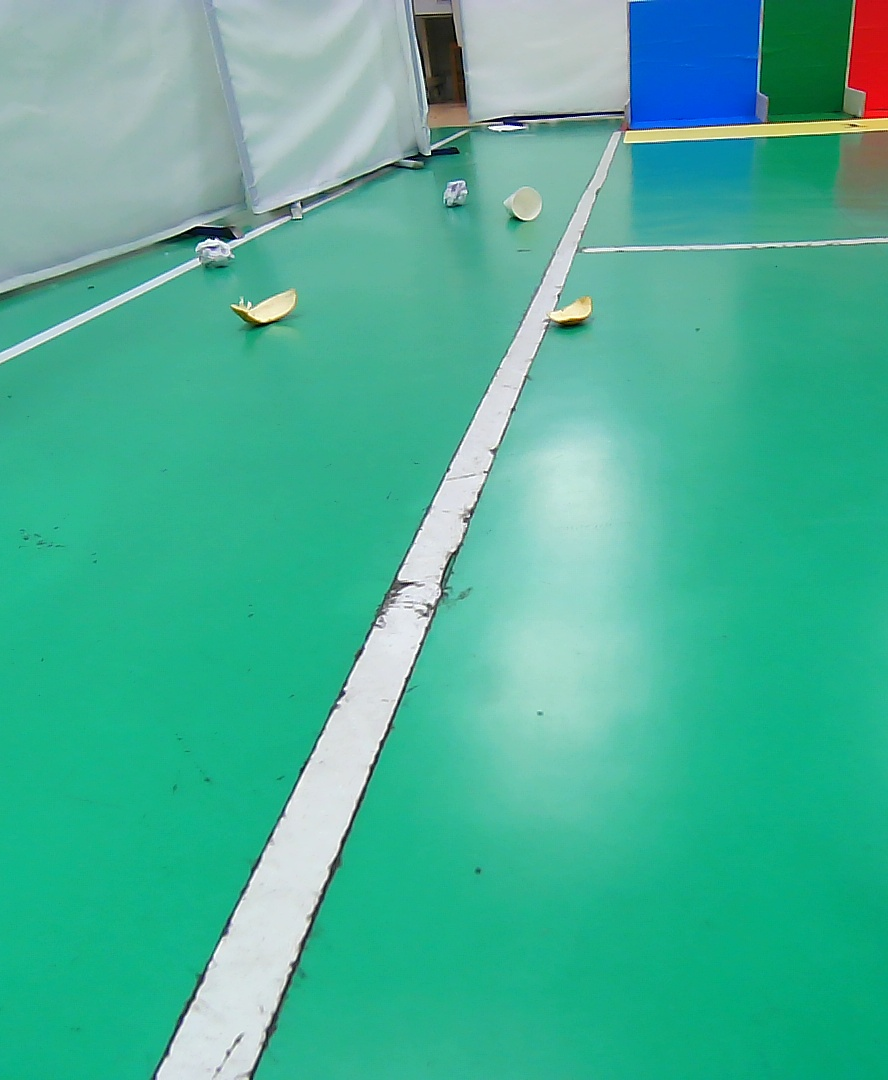orangepeel: (221, 282, 307, 335), (537, 290, 599, 336)
papercup: (498, 183, 545, 223)
spitball: (193, 235, 235, 272), (439, 177, 471, 208)
